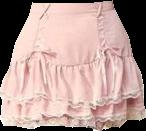Hemline: (0, 93, 143, 107), (0, 113, 145, 125)
Waistline: (11, 50, 132, 64), (31, 1, 110, 4)
